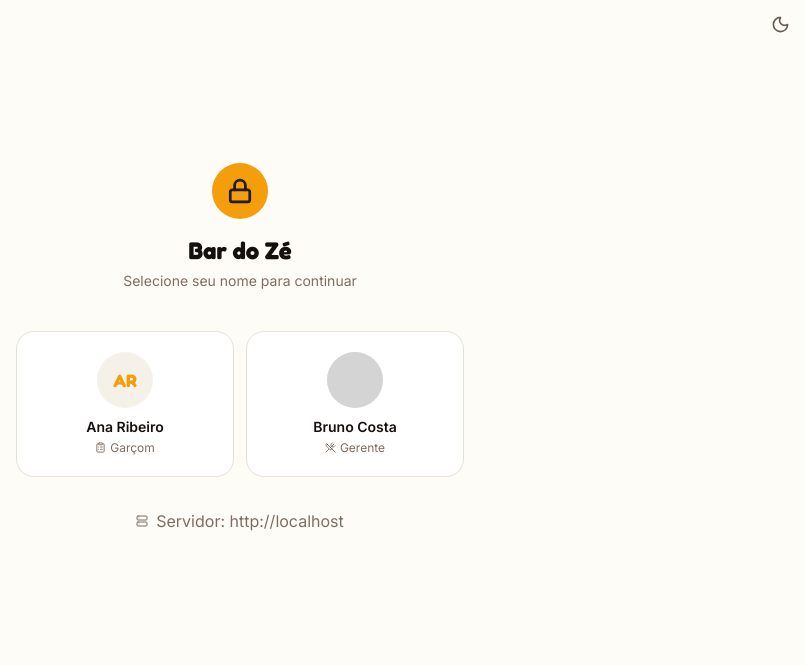
Test: LoginPagePin — avatar da equipe › a tela de PIN mostra a foto de quem está entrando
Click the text "Bruno Costa". click: click(355, 427)
box: [313,418,397,436]
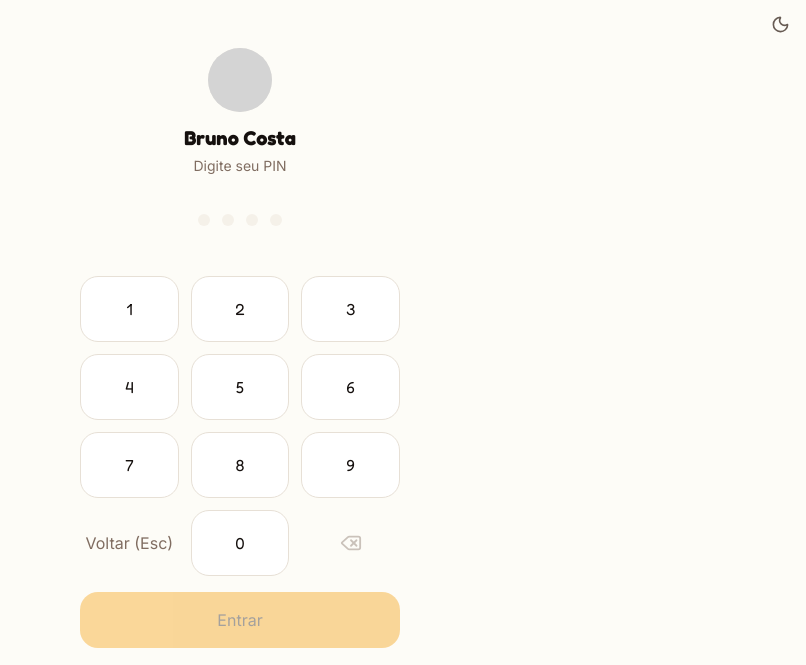
Check: the text "Digite seu PIN" is shown, box [194,157,286,174]
